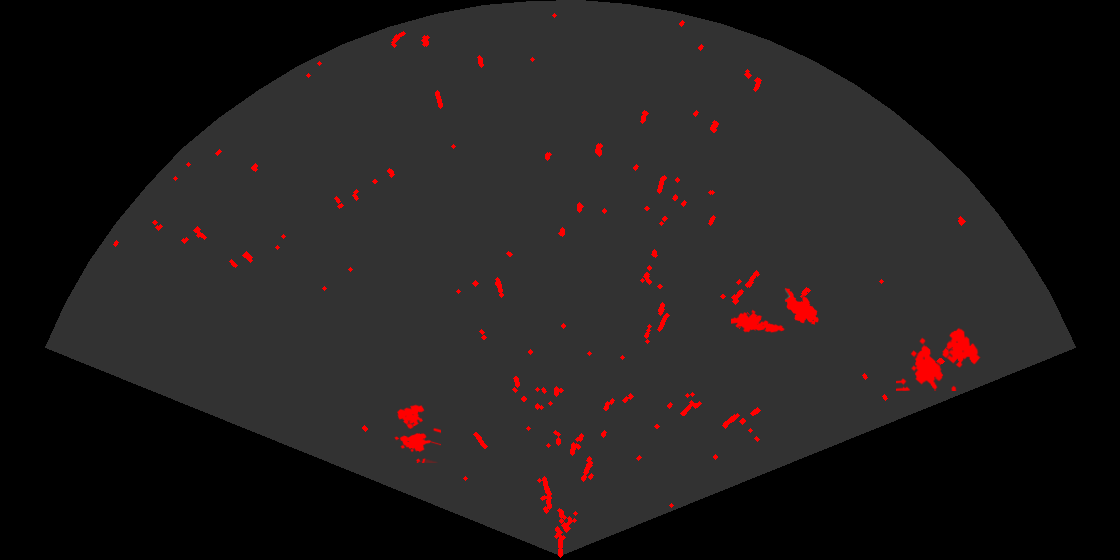AUV: (783, 286, 820, 326)
cage: (896, 326, 982, 391), (393, 403, 441, 463)
frogman: (731, 308, 786, 335)
